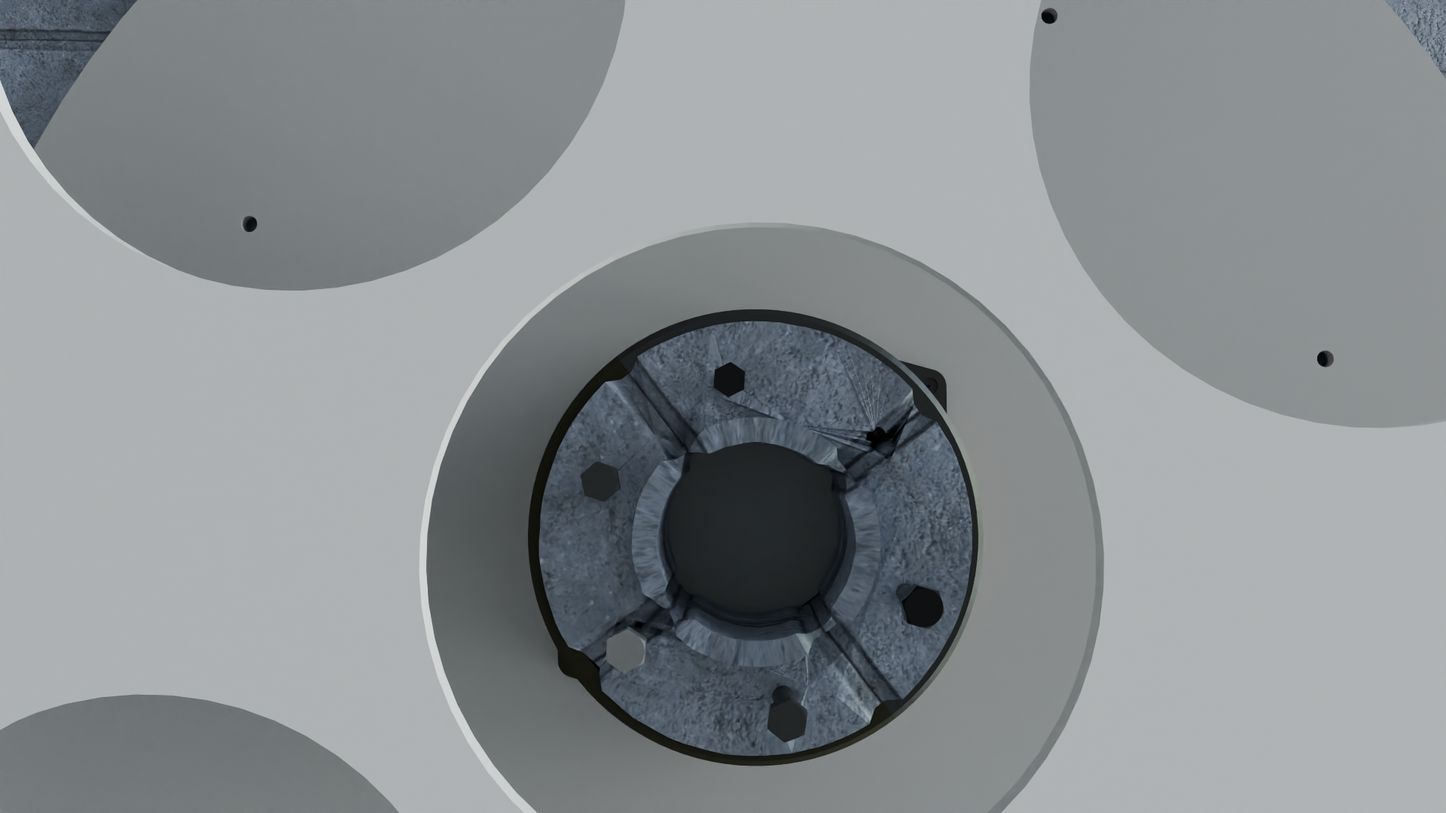bolt: (901, 586, 944, 629), (606, 629, 645, 673), (767, 700, 807, 742), (581, 461, 619, 502), (713, 362, 746, 397)
